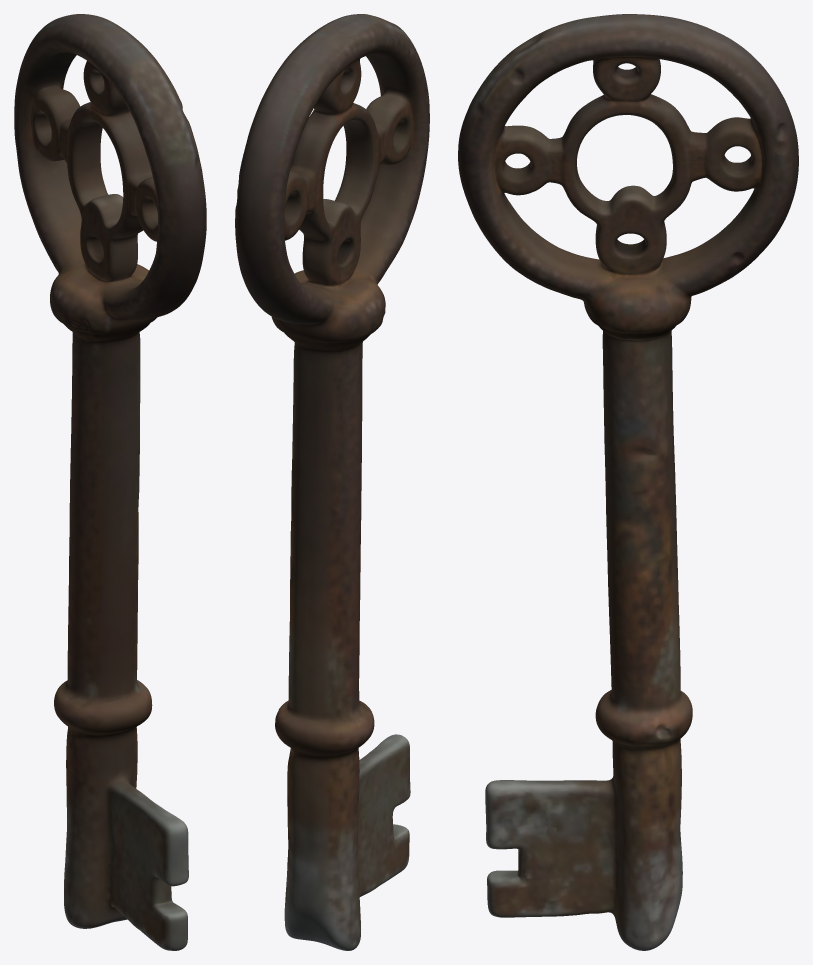
The model's file is Key5.fbx.
3 views of the same model, side by side, from view 1: azimuth 30°, elevation 25°; view 2: azimuth 150°, elevation 25°; view 3: azimuth 270°, elevation 25° (orthographic). The views are drawn at different scales.
Visible parts, largest first — view 1: tripo_node_c6a790f1.005; view 2: tripo_node_c6a790f1.005; view 3: tripo_node_c6a790f1.005.
Boxes of the visible parts, left/top/right/bottom form: tripo_node_c6a790f1.005: left=14, top=14, right=206, bottom=950; tripo_node_c6a790f1.005: left=235, top=14, right=429, bottom=950; tripo_node_c6a790f1.005: left=458, top=14, right=798, bottom=950.
Size of the model in its own units: 5.47 by 48.17 by 16.18.
1 material, 1 textured.
